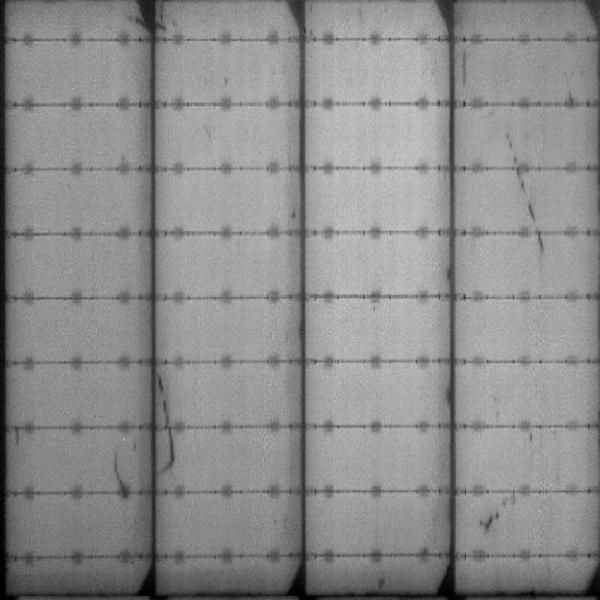scratch: (516, 172, 546, 251), (159, 372, 182, 474), (478, 492, 518, 530), (113, 449, 133, 497), (459, 44, 474, 95), (504, 127, 523, 163)
